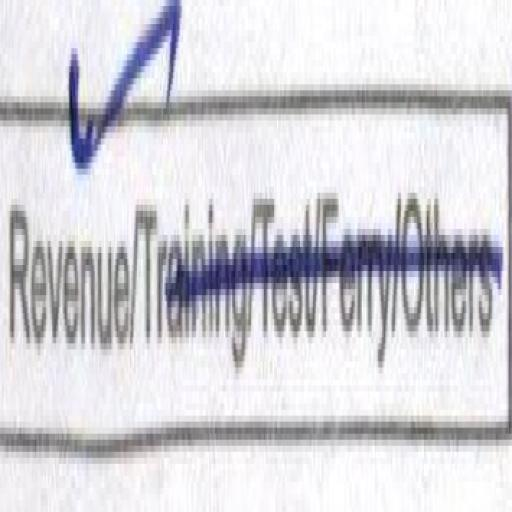check: (0, 18, 138, 450)
